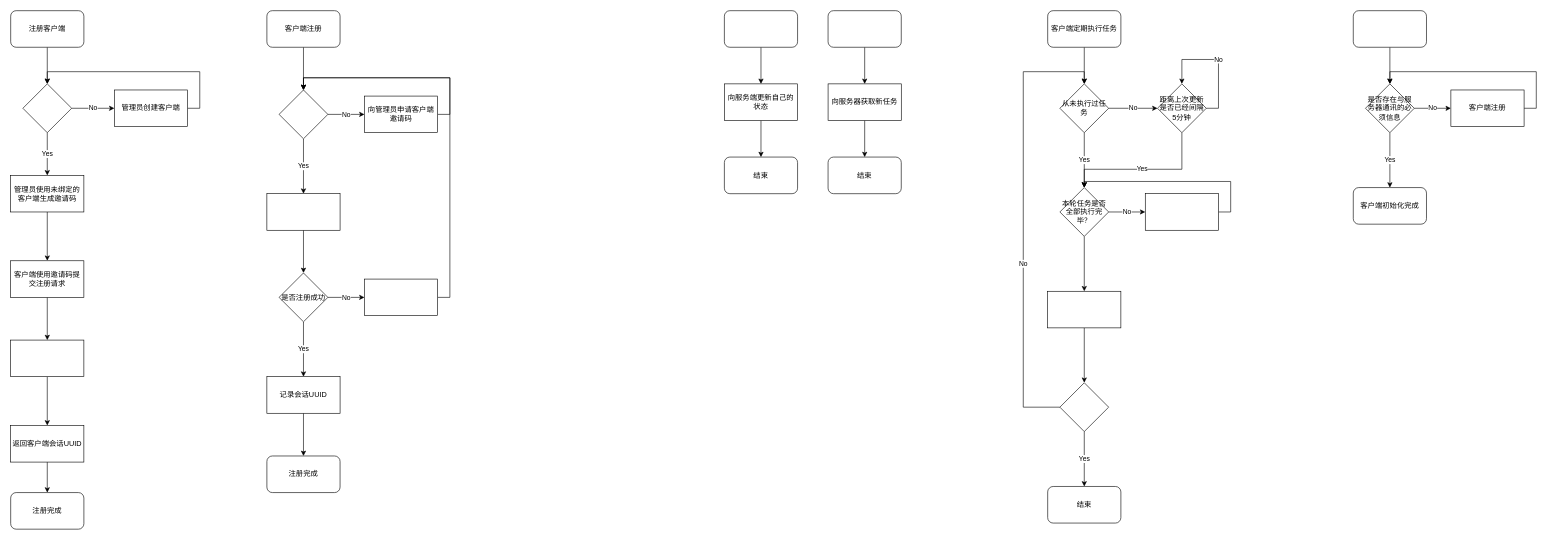
This 1552x540 diagram has some shape labels left out. The centre of each missing label's shape, as x and y in pixels:
"使用客户端邀请码注册客户端" goes at (x=303, y=211).
"客户端初始化" goes at (x=1389, y=28).
"客户端定期任务---客户端自动更新" goes at (x=761, y=28).
"客户端定期任务---获取新任务" goes at (x=864, y=28).
"按照顺序执行本轮第N个任务" goes at (x=1181, y=211).
"是否受到客户端定期执行任务中止信号？" goes at (x=1084, y=407).
"是否存在客户端邀请码" goes at (x=303, y=114).
"是否存在未绑定客户端" goes at (x=47, y=108).
"根据邀请码生成客户端会话" goes at (x=47, y=358).
"联系管理员" goes at (x=401, y=297).
"记录本次执行时间" goes at (x=1084, y=309).
